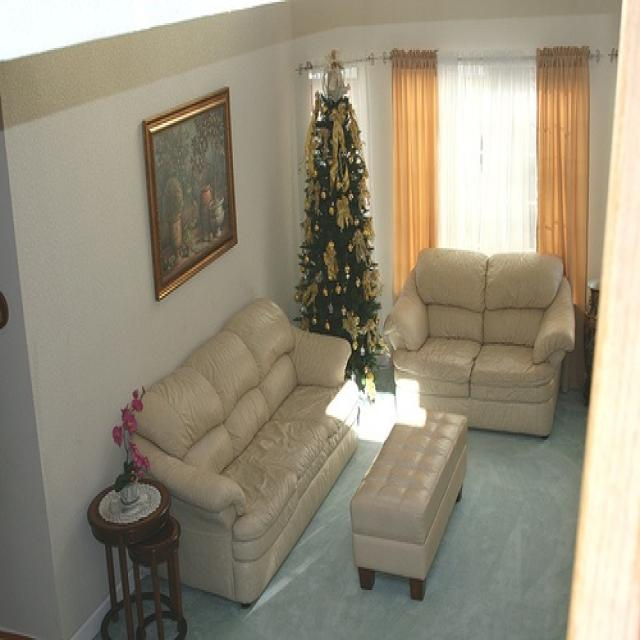pottedplant: (113, 390, 147, 502)
sofa: (118, 298, 367, 598), (386, 246, 574, 434)
